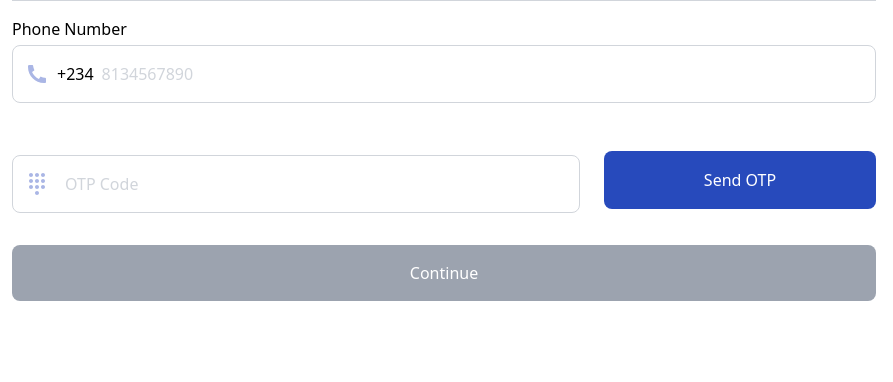
StepOneSme Tests › should show the correct error message when phone number field has invalid value
The width and height of the screenshot is (893, 382).
Type "8123" into the field with placeholder "8134567890".
click(478, 74); type("8123")  # box [94,54,863,94]
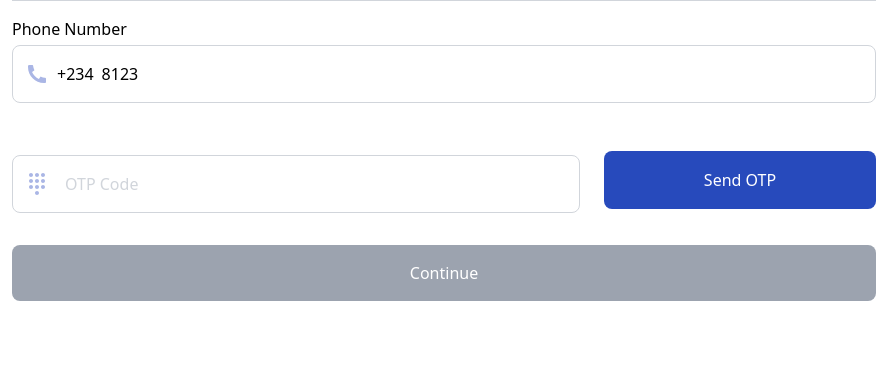
Click the button "Send OTP".
click(740, 180)  # box [604,151,876,209]
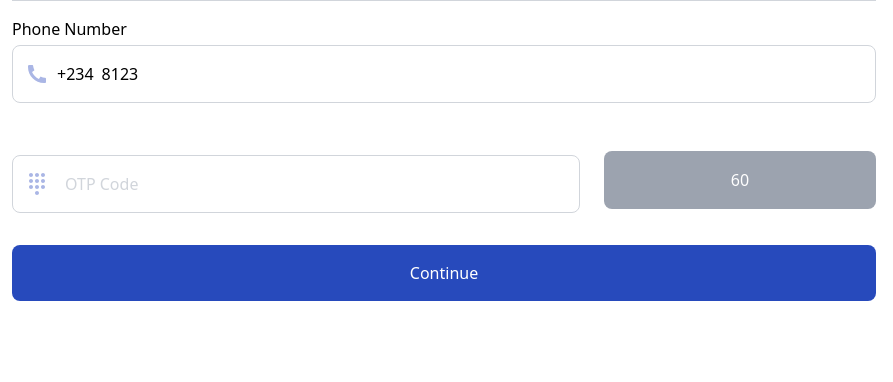
Click the button "Continue".
click(444, 273)  # box [12,245,876,301]
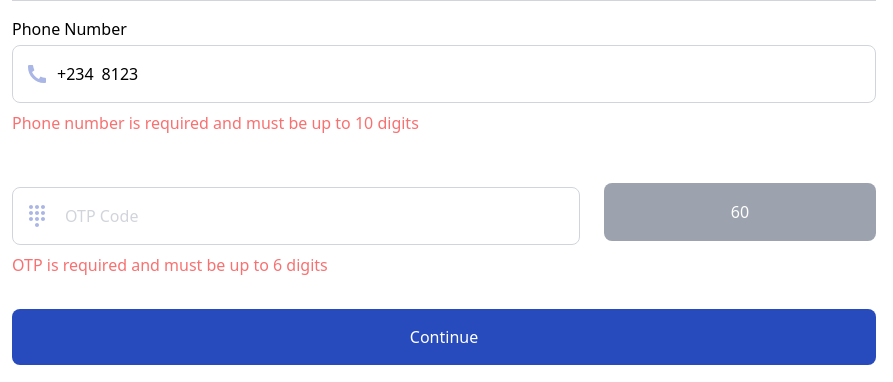
Result: the text with test id "error" reads "Phone number is required and must be up to 10 digits" at [12,112,419,134]
